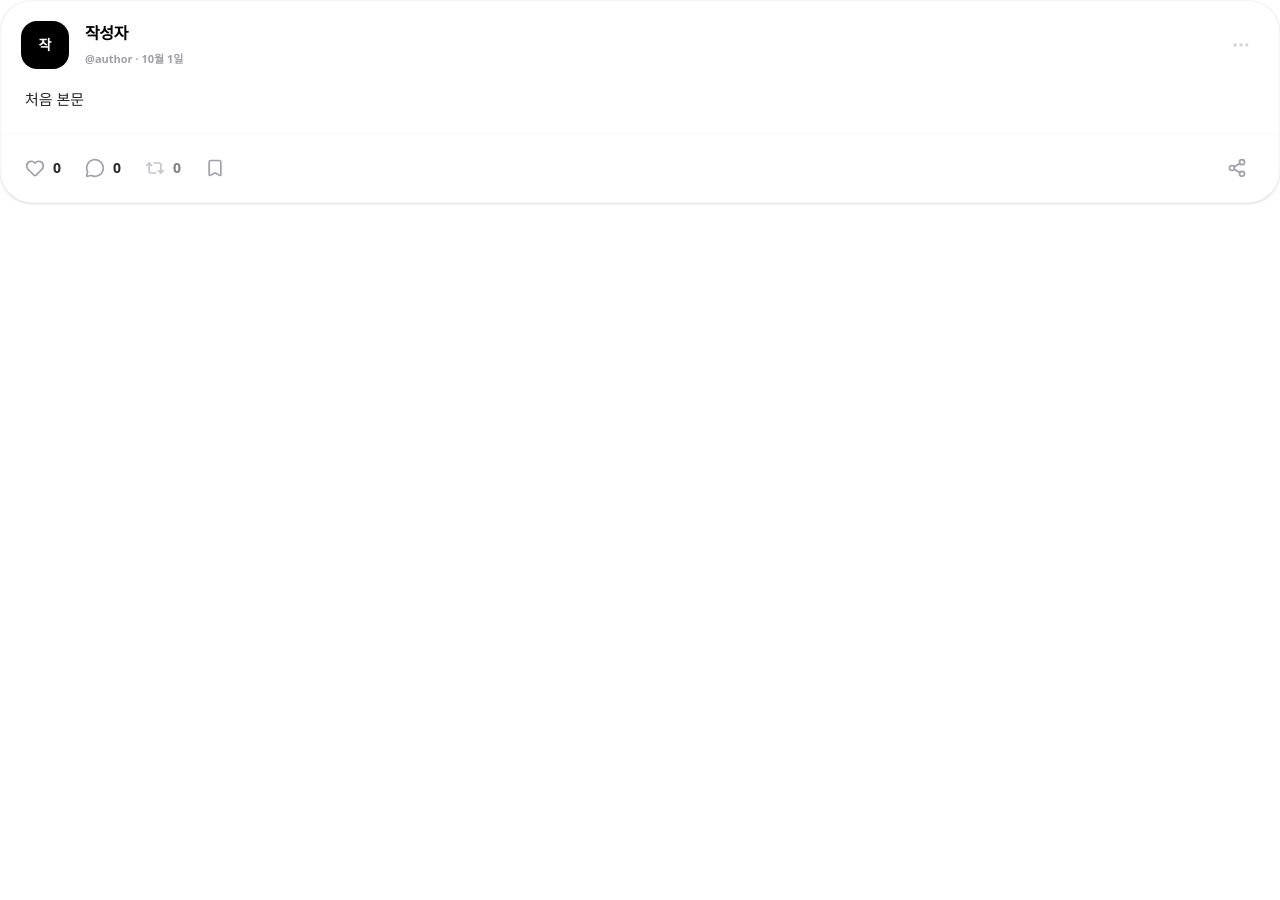
it: 게시물 카드 수정 › 마감이 지나면 저장을 막고 안내를 바꾼다
This screenshot has width=1280, height=900.
Click the button named "게시물 메뉴" at (1241, 45), box [1223,27,1259,63]
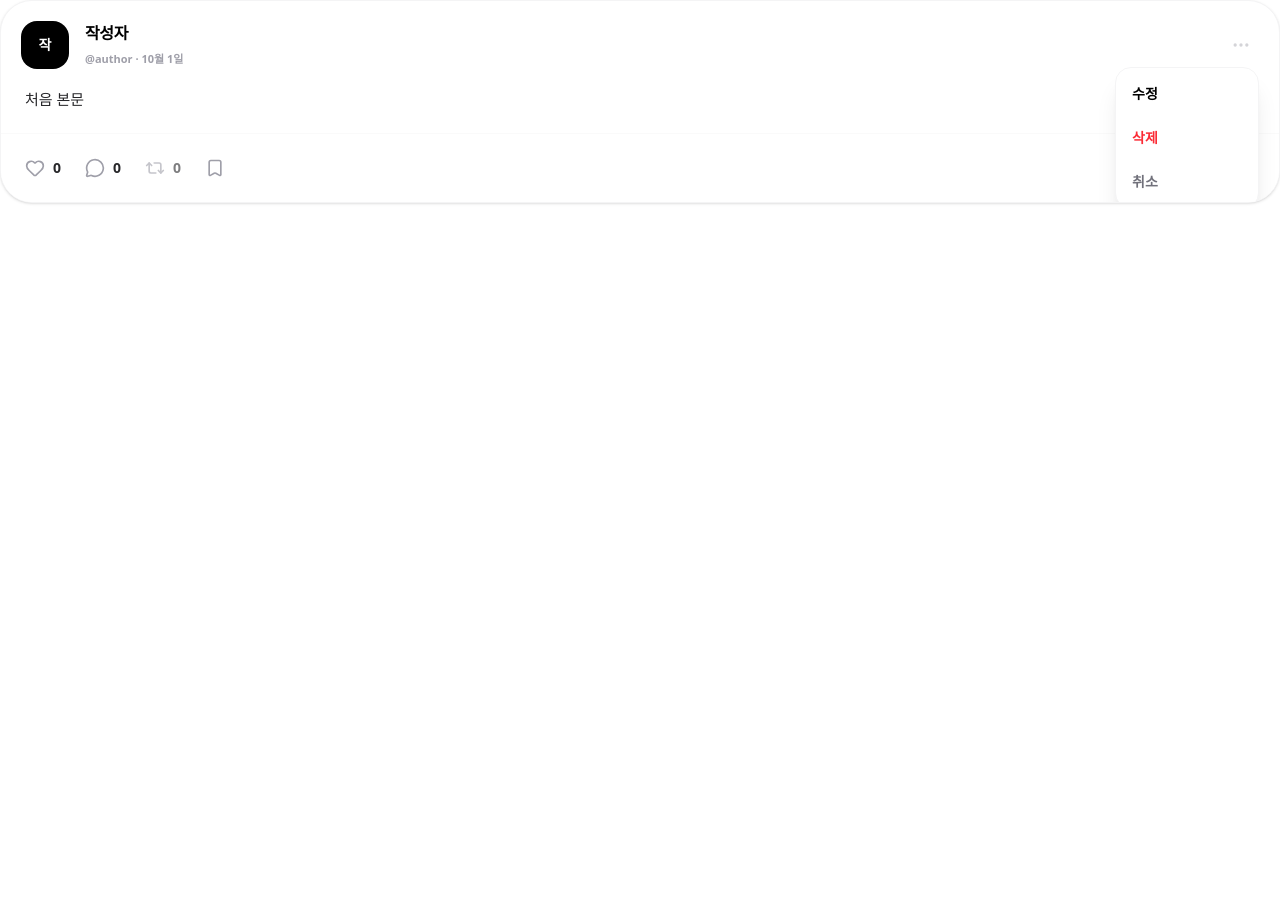
Click the button "수정" at (1187, 94), box [1116,72,1258,116]
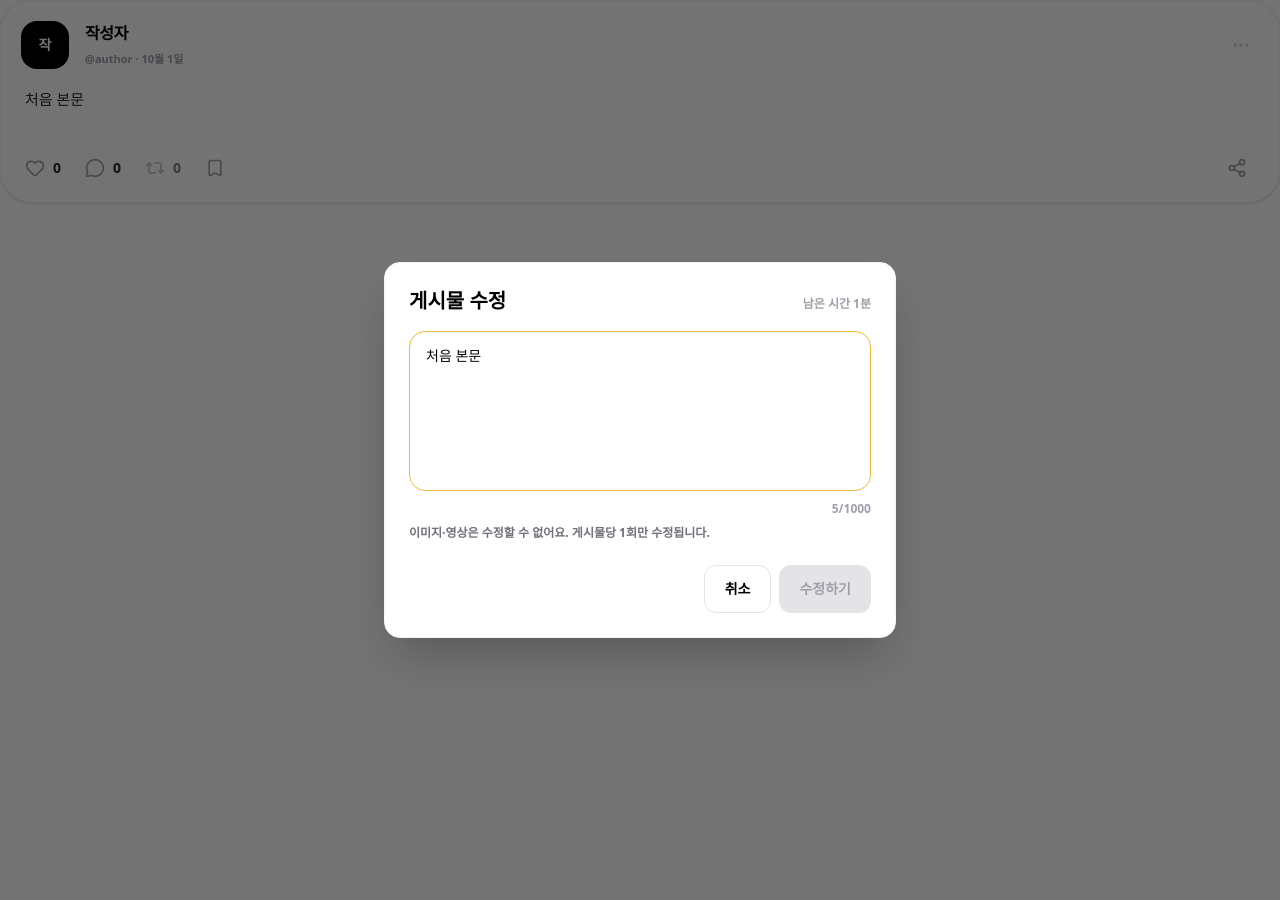
Replace the text in the text box named "게시물 본문" with "고친 본문" at (640, 411), box [409,331,871,491]
Wait 31000 ms
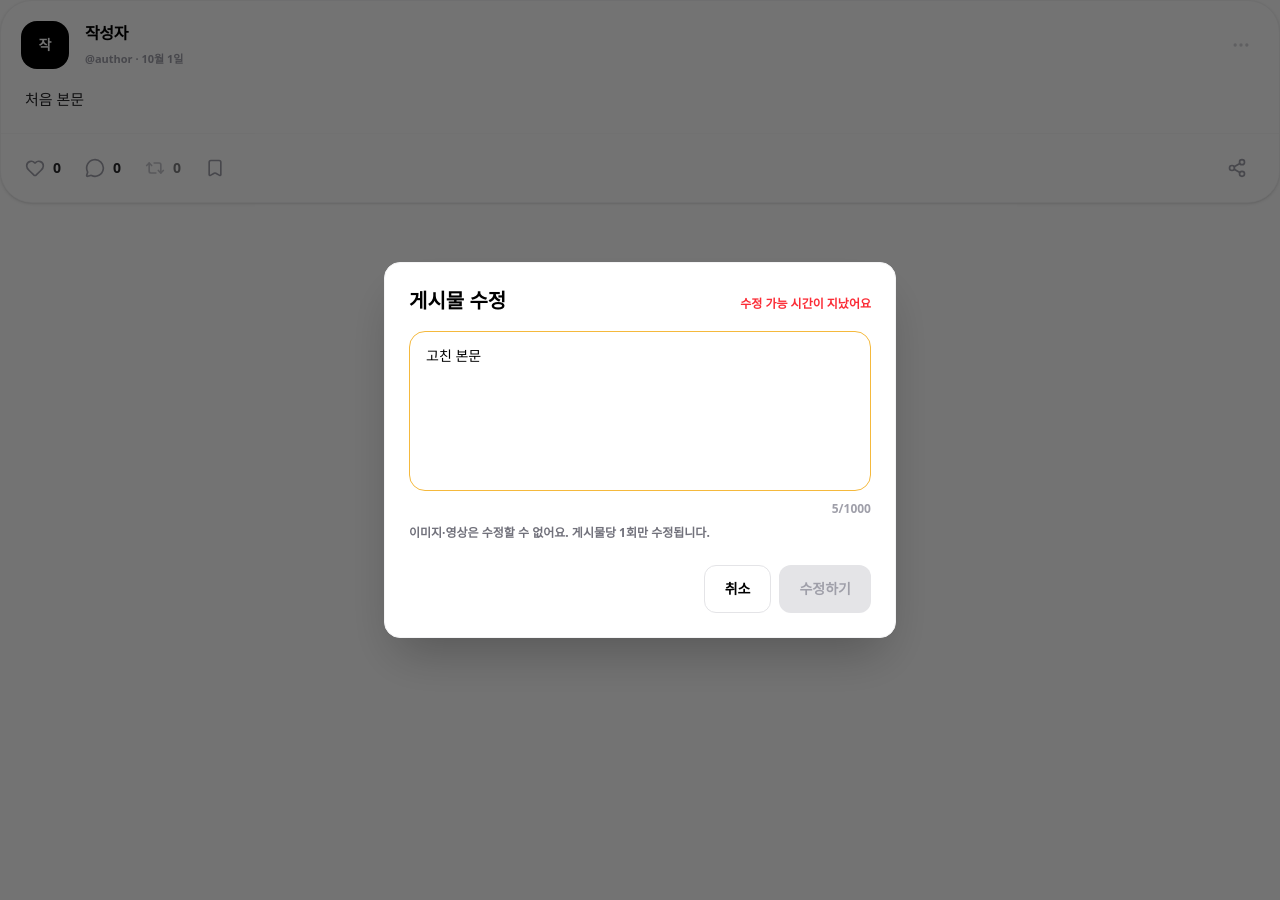
Now the button "수정하기" is disabled, box [780,565,871,613]
Now the text "수정 가능 시간이 지났어요" is shown, box [740,296,871,312]
